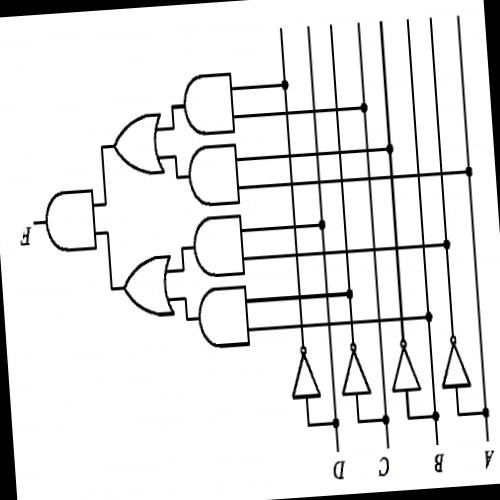and: (190, 278, 256, 356), (186, 207, 252, 281), (177, 66, 240, 142), (40, 182, 103, 258), (183, 139, 244, 212)
not: (386, 332, 426, 408), (283, 338, 324, 408), (436, 329, 476, 399), (335, 338, 374, 406)
or: (108, 106, 171, 184), (117, 250, 179, 324)
